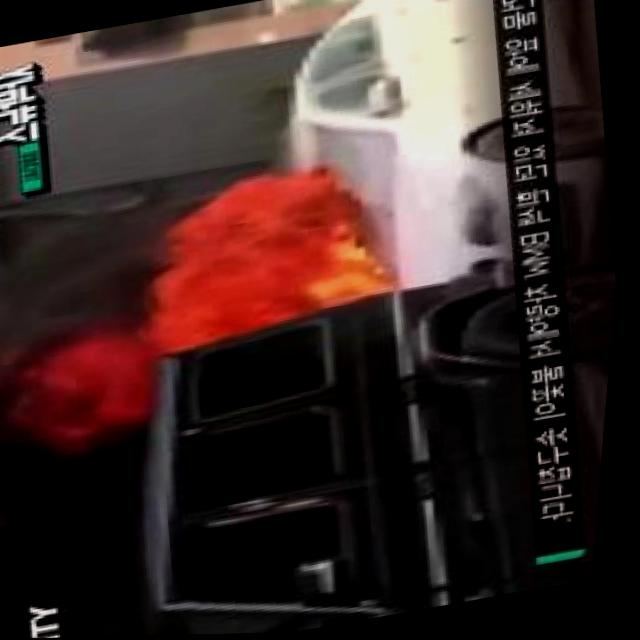Fire: (68, 162, 404, 436)
